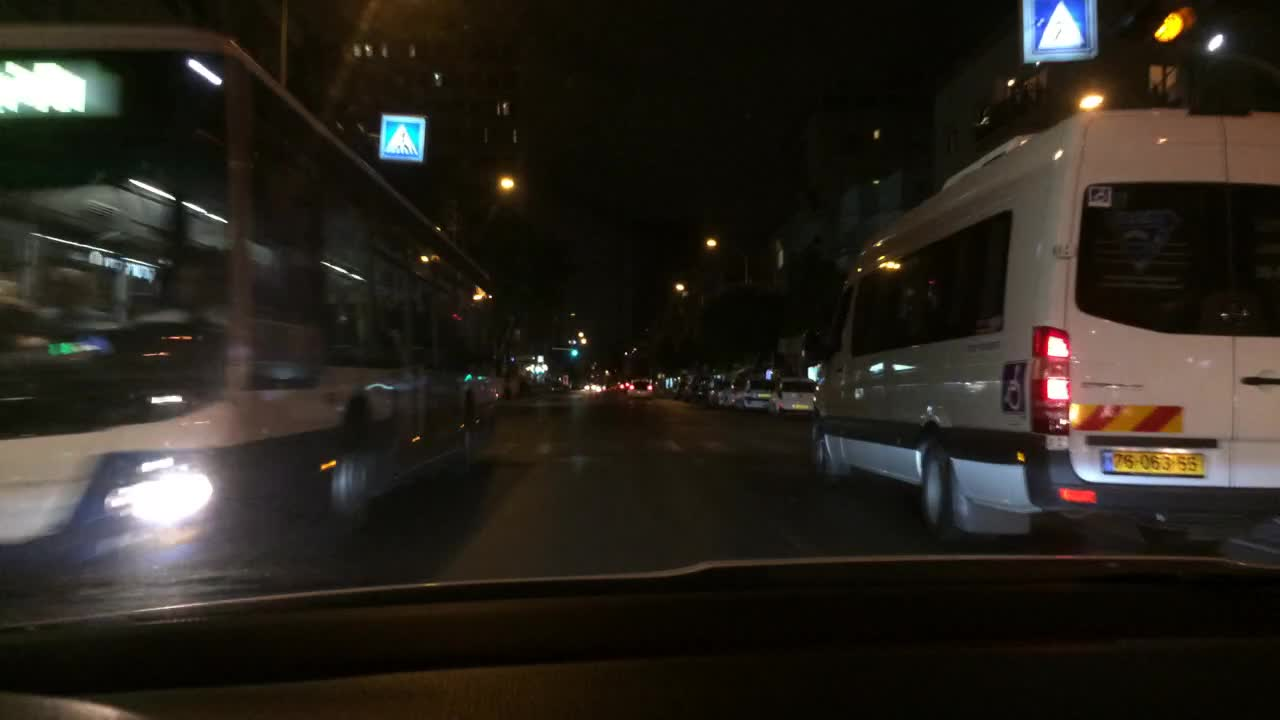bus: (0, 26, 504, 592)
car: (808, 107, 1277, 534), (725, 366, 771, 415), (769, 376, 818, 416), (694, 371, 725, 404), (672, 372, 693, 398), (628, 379, 653, 398), (611, 379, 629, 393), (597, 379, 609, 396), (584, 381, 597, 393)
person: (764, 364, 774, 391)
traffic light: (1154, 11, 1196, 48), (571, 347, 580, 361)
traffic sign: (1019, 3, 1097, 62), (380, 114, 425, 163), (560, 373, 570, 387), (535, 352, 545, 365)
